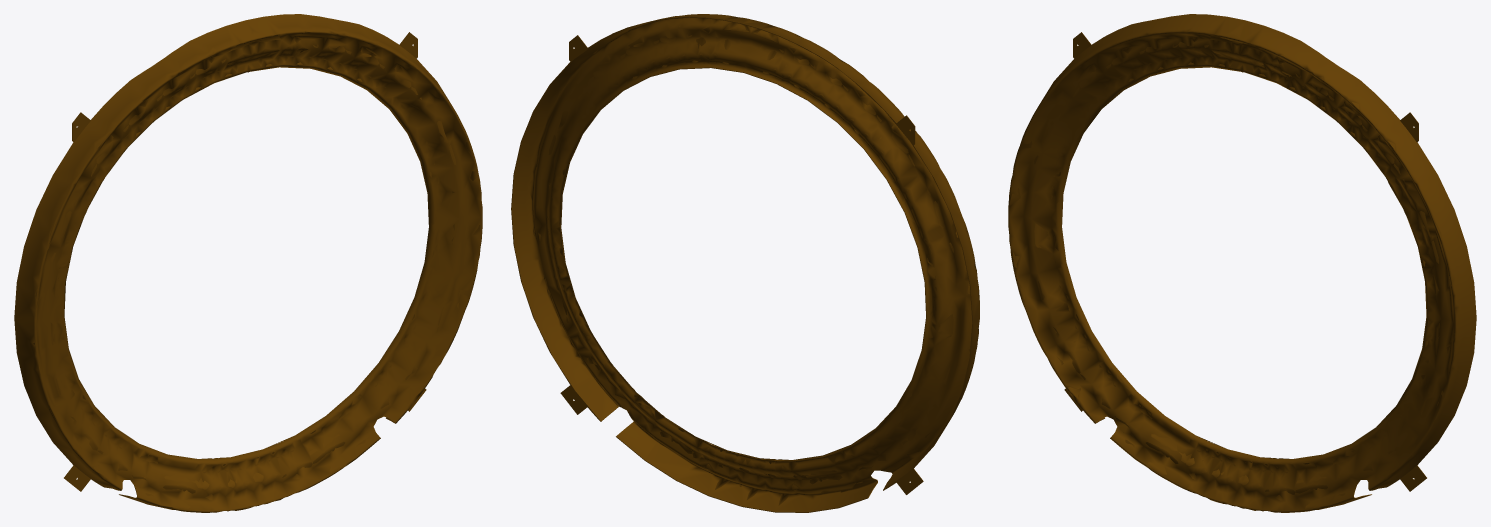
The model's file is Cadran_rebord.obj.
3 views of the same model, side by side, from view 1: azimuth 30°, elevation 25°; view 2: azimuth 150°, elevation 25°; view 3: azimuth 330°, elevation 25° (orthographic).
Parts seen in each view (by area): view 1: Face_4, Face_5; view 2: Face_5, Face_4, Face_7, Face_2, Face_1; view 3: Face_4, Face_5.
Boxes of the visible parts, <box> form: Face_4: <box>14,14,482,512</box>; Face_5: <box>33,30,481,511</box>; Face_5: <box>511,17,978,512</box>; Face_4: <box>531,14,979,505</box>; Face_7: <box>561,67,926,460</box>; Face_2: <box>511,27,628,421</box>; Face_1: <box>855,83,972,494</box>; Face_4: <box>1008,14,1476,512</box>; Face_5: <box>1009,31,1456,511</box>.
Bounding box in the file's own units: 0.3049 × 0.3049 × 0.016.
